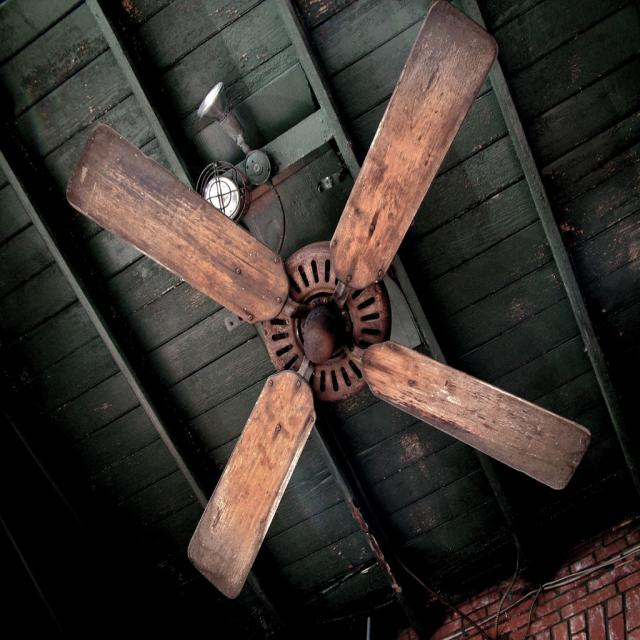Bulb: (64, 0, 591, 602)
